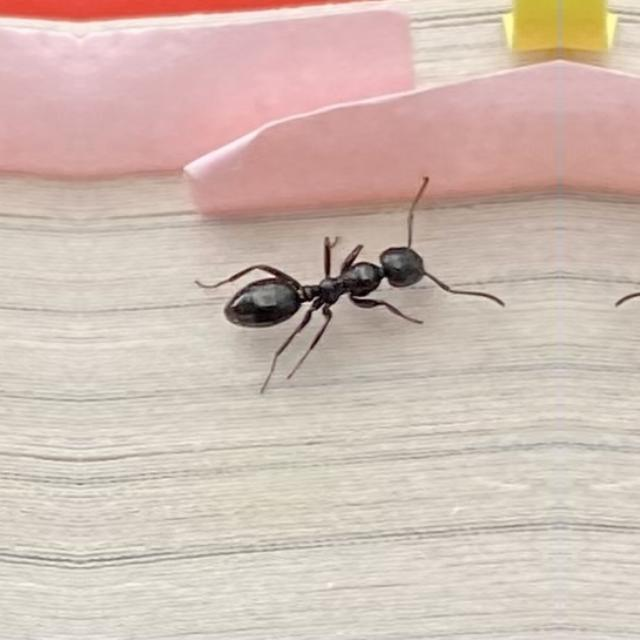Colobopsis: (203, 186, 463, 384)
